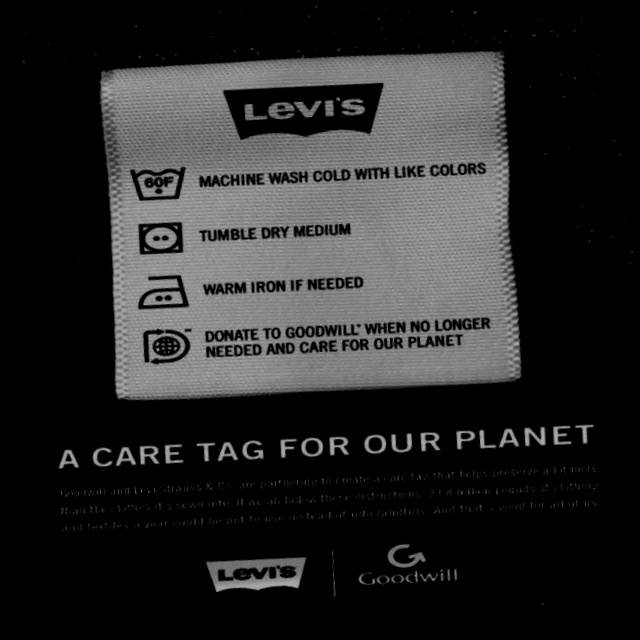30C: (122, 150, 197, 214)
iron_medium: (128, 261, 200, 323)
tumble_dry_medium: (127, 212, 194, 267)
